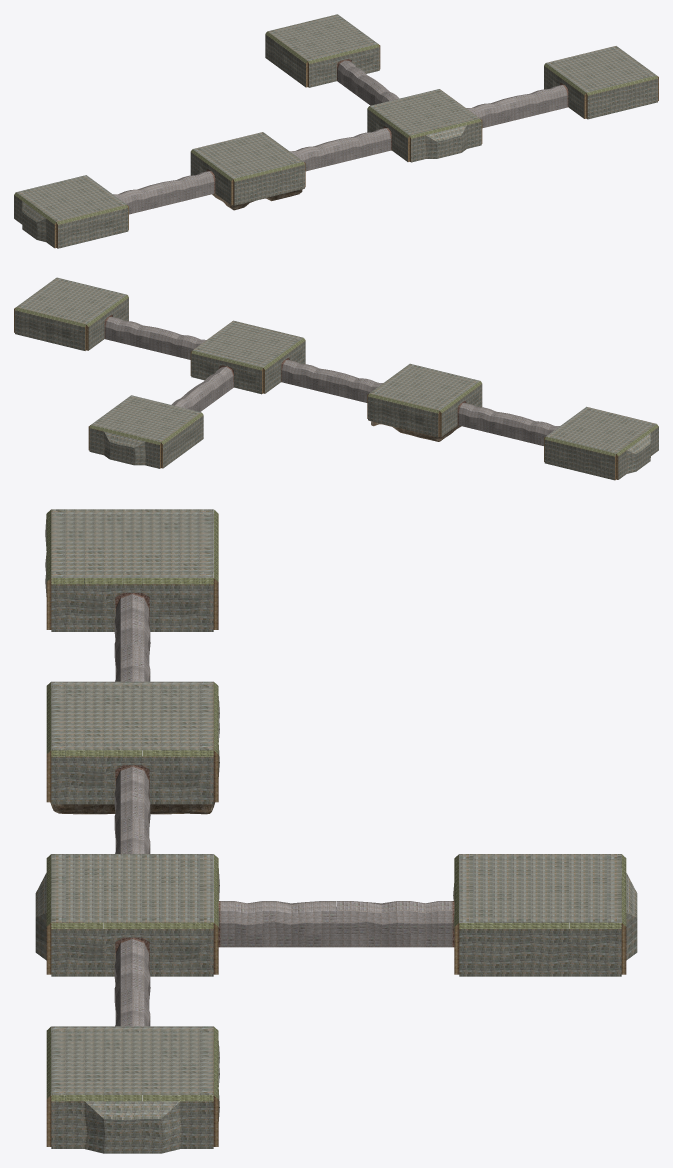
Rendered from map50Dungeon2.fbx.
3 renders of one model, top to bottom at view 1: azimuth 30°, elevation 25°; view 2: azimuth 150°, elevation 25°; view 3: azimuth 270°, elevation 25°, orthographic. The views are drawn at different scales.
Visible parts, largest first — view 1: map50M_Layer1_roof, map50D_Layer8, map50M_Layer1_right, map50M_Layer1_near, map50M_Layer1_far, map50M_Layer2, map50M_Layer1_left, map50M_Layer3, map50M_Layer6, map50M_Layer1_floor3; view 2: map50M_Layer1_roof, map50D_Layer8, map50M_Layer1_near, map50M_Layer1_left, map50M_Layer2, map50M_Layer1_far, map50M_Layer1_right, map50M_Layer3, map50M_Layer6, map50M_Layer1_floor3; view 3: map50M_Layer1_roof, map50D_Layer8, map50M_Layer1_far, map50M_Layer1_right, map50M_Layer2, map50M_Layer1_left, map50M_Layer6, map50M_Layer3, map50M_Layer1_floor3.
Boxes of the visible parts, x1,y1,x2,y2 form: map50M_Layer1_roof: (16, 14, 656, 221); map50D_Layer8: (116, 63, 561, 214); map50M_Layer1_right: (190, 47, 584, 204); map50M_Layer1_near: (58, 34, 407, 248); map50M_Layer1_far: (234, 78, 657, 205); map50M_Layer2: (14, 31, 657, 224); map50M_Layer1_left: (14, 195, 54, 247); map50M_Layer3: (113, 60, 567, 197); map50M_Layer6: (15, 44, 658, 248); map50M_Layer1_floor3: (212, 189, 302, 210); map50M_Layer1_roof: (16, 277, 656, 453); map50D_Layer8: (111, 318, 556, 445); map50M_Layer1_near: (15, 310, 438, 468); map50M_Layer1_left: (89, 353, 658, 479); map50M_Layer2: (15, 295, 658, 456); map50M_Layer1_far: (544, 439, 614, 480); map50M_Layer1_right: (88, 297, 482, 436); map50M_Layer3: (105, 317, 559, 429); map50M_Layer6: (14, 295, 618, 480); map50M_Layer1_floor3: (369, 420, 461, 441); map50M_Layer1_roof: (51, 509, 621, 1094); map50D_Layer8: (114, 600, 438, 1026); map50M_Layer1_far: (51, 929, 621, 976); map50M_Layer1_right: (35, 584, 454, 960); map50M_Layer2: (46, 509, 626, 1101); map50M_Layer1_left: (51, 868, 637, 1153); map50M_Layer6: (46, 578, 626, 1146); map50M_Layer3: (116, 594, 452, 961); map50M_Layer1_floor3: (50, 802, 214, 814).
Size of the model in its own units: 6.95 by 0.3616 by 2.95.
